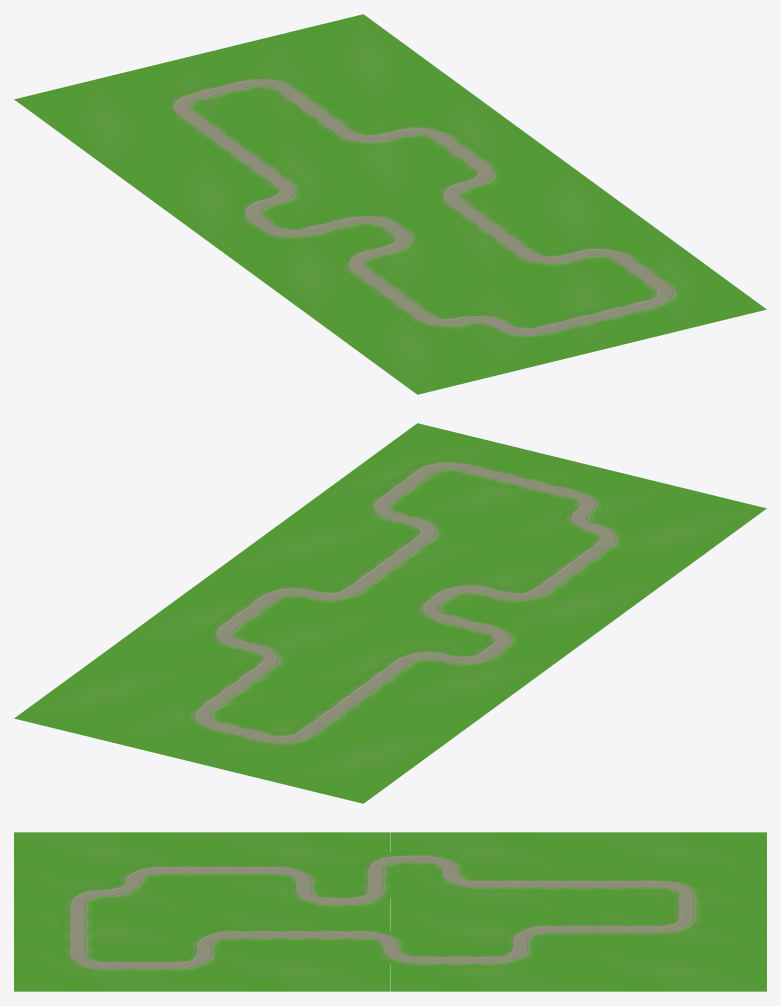
File: Route_.FBX
3 renders of one model, top to bottom at view 1: azimuth 30°, elevation 25°; view 2: azimuth 150°, elevation 25°; view 3: azimuth 270°, elevation 25°, orthographic. The views are drawn at different scales.
Visible parts, largest first — view 1: Road_Chunk002, Ground_Plane013, Ground_Plane015, Ground_Plane002, Ground_Plane007, Ground_Plane011, Ground_Plane, Ground_Plane005, Ground_Plane009, Ground_Plane012, Ground_Plane008, Ground_Plane006 (+5 smaller); view 2: Road_Chunk002, Ground_Plane015, Ground_Plane013, Ground_Plane002, Ground_Plane007, Ground_Plane011, Ground_Plane, Ground_Plane005, Ground_Plane009, Ground_Plane012, Ground_Plane008, Ground_Plane006 (+5 smaller); view 3: Road_Chunk002, Ground_Plane015, Ground_Plane013, Ground_Plane002, Ground_Plane007, Ground_Plane011, Ground_Plane, Ground_Plane005, Ground_Plane009, Ground_Plane008, Ground_Plane012, Ground_Plane004 (+5 smaller).
Part boxes in pixels (x1=…): Road_Chunk002: x1=164, y1=75, x2=683, y2=339; Ground_Plane013: x1=276, y1=14, x2=463, y2=109; Ground_Plane015: x1=14, y1=78, x2=201, y2=172; Ground_Plane002: x1=486, y1=162, x2=665, y2=249; Ground_Plane007: x1=317, y1=304, x2=504, y2=394; Ground_Plane011: x1=115, y1=152, x2=300, y2=246; Ground_Plane: x1=216, y1=236, x2=384, y2=320; Ground_Plane005: x1=492, y1=262, x2=679, y2=351; Ground_Plane009: x1=290, y1=109, x2=466, y2=204; Ground_Plane012: x1=189, y1=35, x2=376, y2=130; Ground_Plane008: x1=377, y1=88, x2=564, y2=176; Ground_Plane006: x1=417, y1=278, x2=591, y2=373; Road_Chunk002: x1=184, y1=458, x2=626, y2=747; Ground_Plane015: x1=276, y1=708, x2=463, y2=803; Ground_Plane013: x1=14, y1=645, x2=201, y2=739; Ground_Plane002: x1=216, y1=497, x2=393, y2=585; Ground_Plane007: x1=598, y1=487, x2=766, y2=581; Ground_Plane011: x1=377, y1=636, x2=564, y2=729; Ground_Plane: x1=495, y1=565, x2=665, y2=655; Ground_Plane005: x1=412, y1=444, x2=591, y2=539; Ground_Plane009: x1=203, y1=600, x2=389, y2=687; Ground_Plane012: x1=101, y1=666, x2=288, y2=760; Ground_Plane008: x1=115, y1=571, x2=291, y2=665; Ground_Plane006: x1=492, y1=466, x2=679, y2=557; Road_Chunk002: x1=61, y1=852, x2=704, y2=973; Ground_Plane015: x1=578, y1=832, x2=766, y2=872; Ground_Plane013: x1=578, y1=951, x2=766, y2=991; Ground_Plane002: x1=202, y1=951, x2=390, y2=991; Ground_Plane007: x1=14, y1=832, x2=202, y2=872; Ground_Plane011: x1=390, y1=832, x2=578, y2=872; Ground_Plane: x1=202, y1=832, x2=390, y2=872; Ground_Plane005: x1=14, y1=912, x2=202, y2=951; Ground_Plane009: x1=390, y1=912, x2=578, y2=951; Ground_Plane008: x1=390, y1=951, x2=578, y2=991; Ground_Plane012: x1=578, y1=912, x2=766, y2=951; Ground_Plane004: x1=14, y1=951, x2=202, y2=991.
Size of the model in its own units: 200 by 400 by 0.3639.
Materials: 1 (1 with a texture image).
